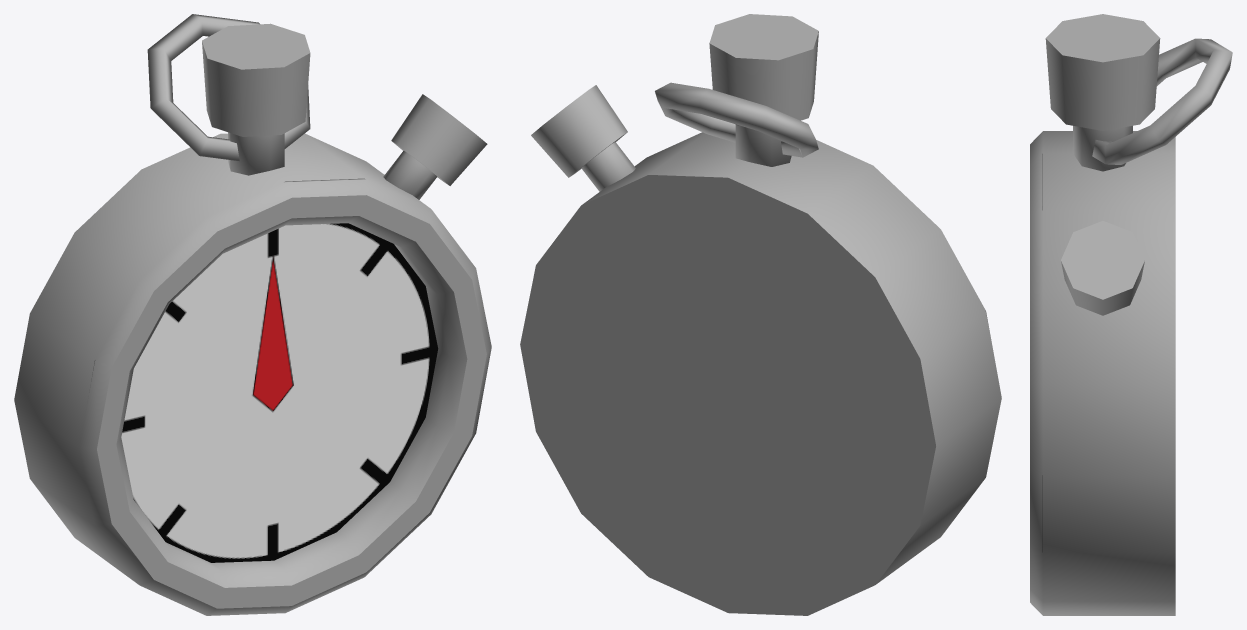
The model's file is Stopwatch.fbx.
3 renders of one model, left to right at view 1: azimuth 30°, elevation 25°; view 2: azimuth 150°, elevation 25°; view 3: azimuth 270°, elevation 25°, orthographic.
Visible parts, largest first — view 1: Stopwatch; view 2: Stopwatch; view 3: Stopwatch.
Part boxes in pixels (x1=…): Stopwatch: x1=14, y1=14, x2=491, y2=615; Stopwatch: x1=520, y1=14, x2=1001, y2=615; Stopwatch: x1=1030, y1=14, x2=1232, y2=615.
Size of the model in its own units: 209 by 252 by 83.51.
